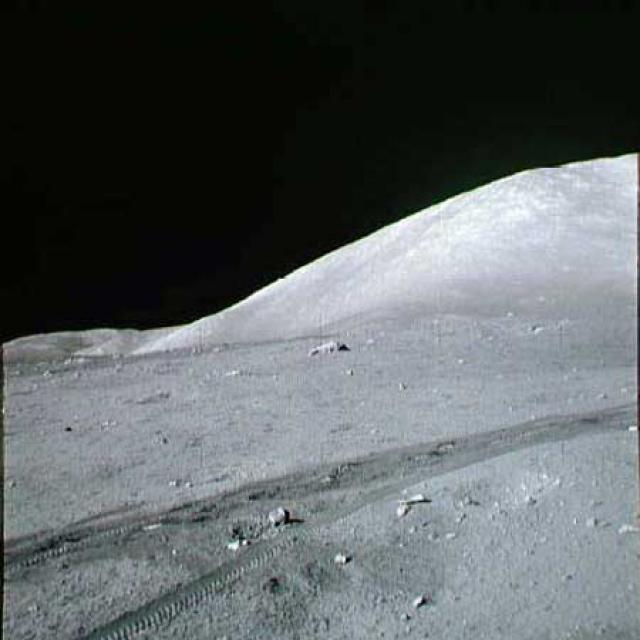rock: (392, 487, 431, 520), (302, 336, 350, 360), (264, 505, 292, 532)
